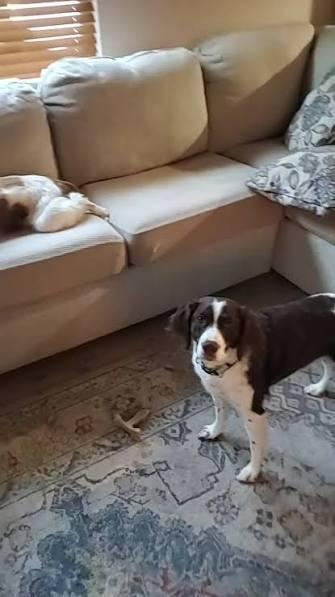adult_dog: (163, 291, 335, 484), (0, 174, 111, 243)
